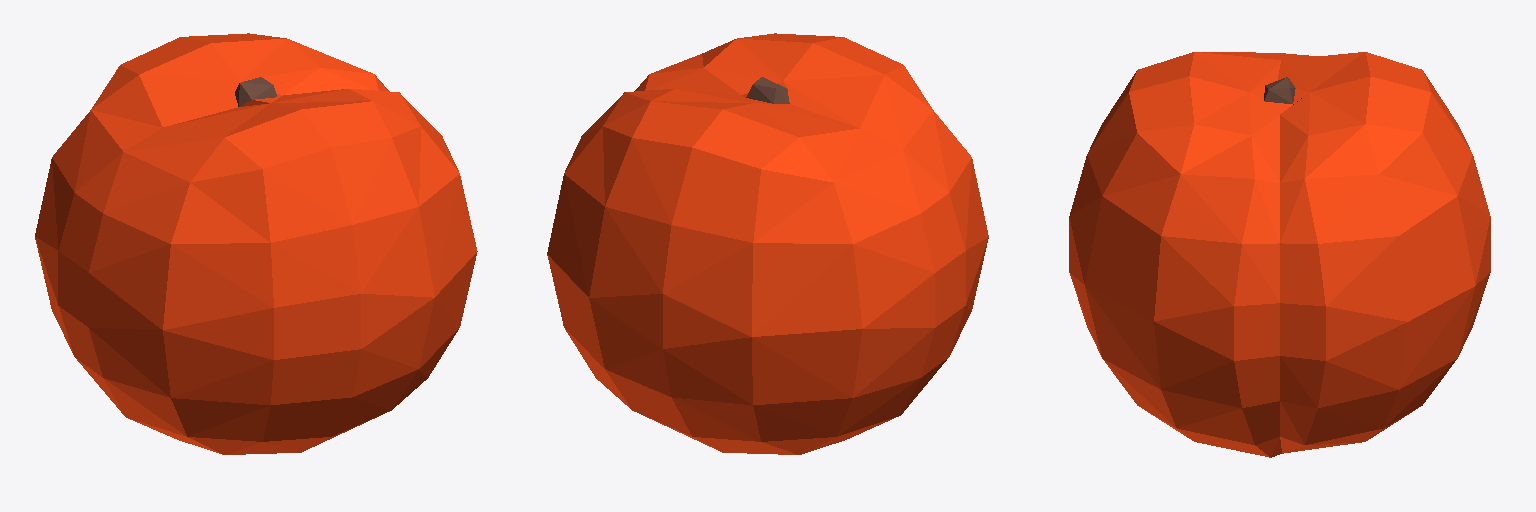
The model's file is simplePeach.obj.
3 renders of one model, left to right at view 1: azimuth 30°, elevation 25°; view 2: azimuth 150°, elevation 25°; view 3: azimuth 270°, elevation 25°, orthographic.
Parts seen in each view (by area): view 1: peach_Roundcube.001; view 2: peach_Roundcube.001; view 3: peach_Roundcube.001.
Boxes of the visible parts, x1,y1,x2,y2 form: peach_Roundcube.001: [35, 33, 477, 454]; peach_Roundcube.001: [547, 33, 988, 454]; peach_Roundcube.001: [1069, 52, 1490, 457].
Bounding box in the file's own units: 9.8 × 9.22 × 9.8.